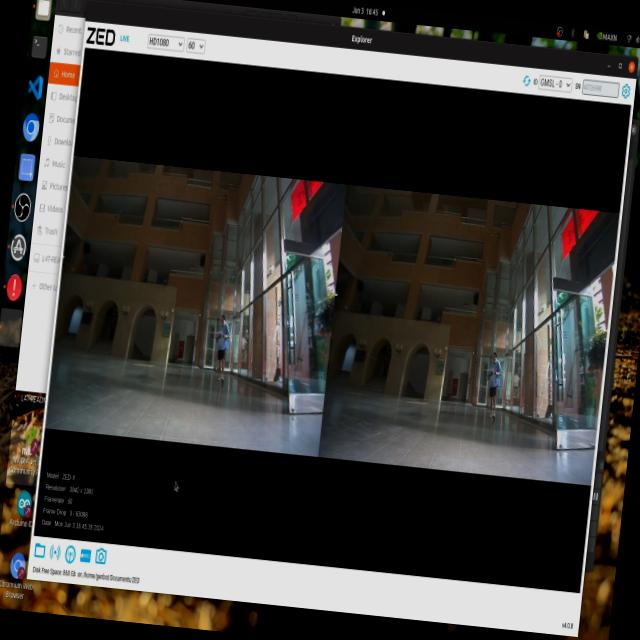blue: (482, 364, 497, 384), (217, 328, 224, 349)
